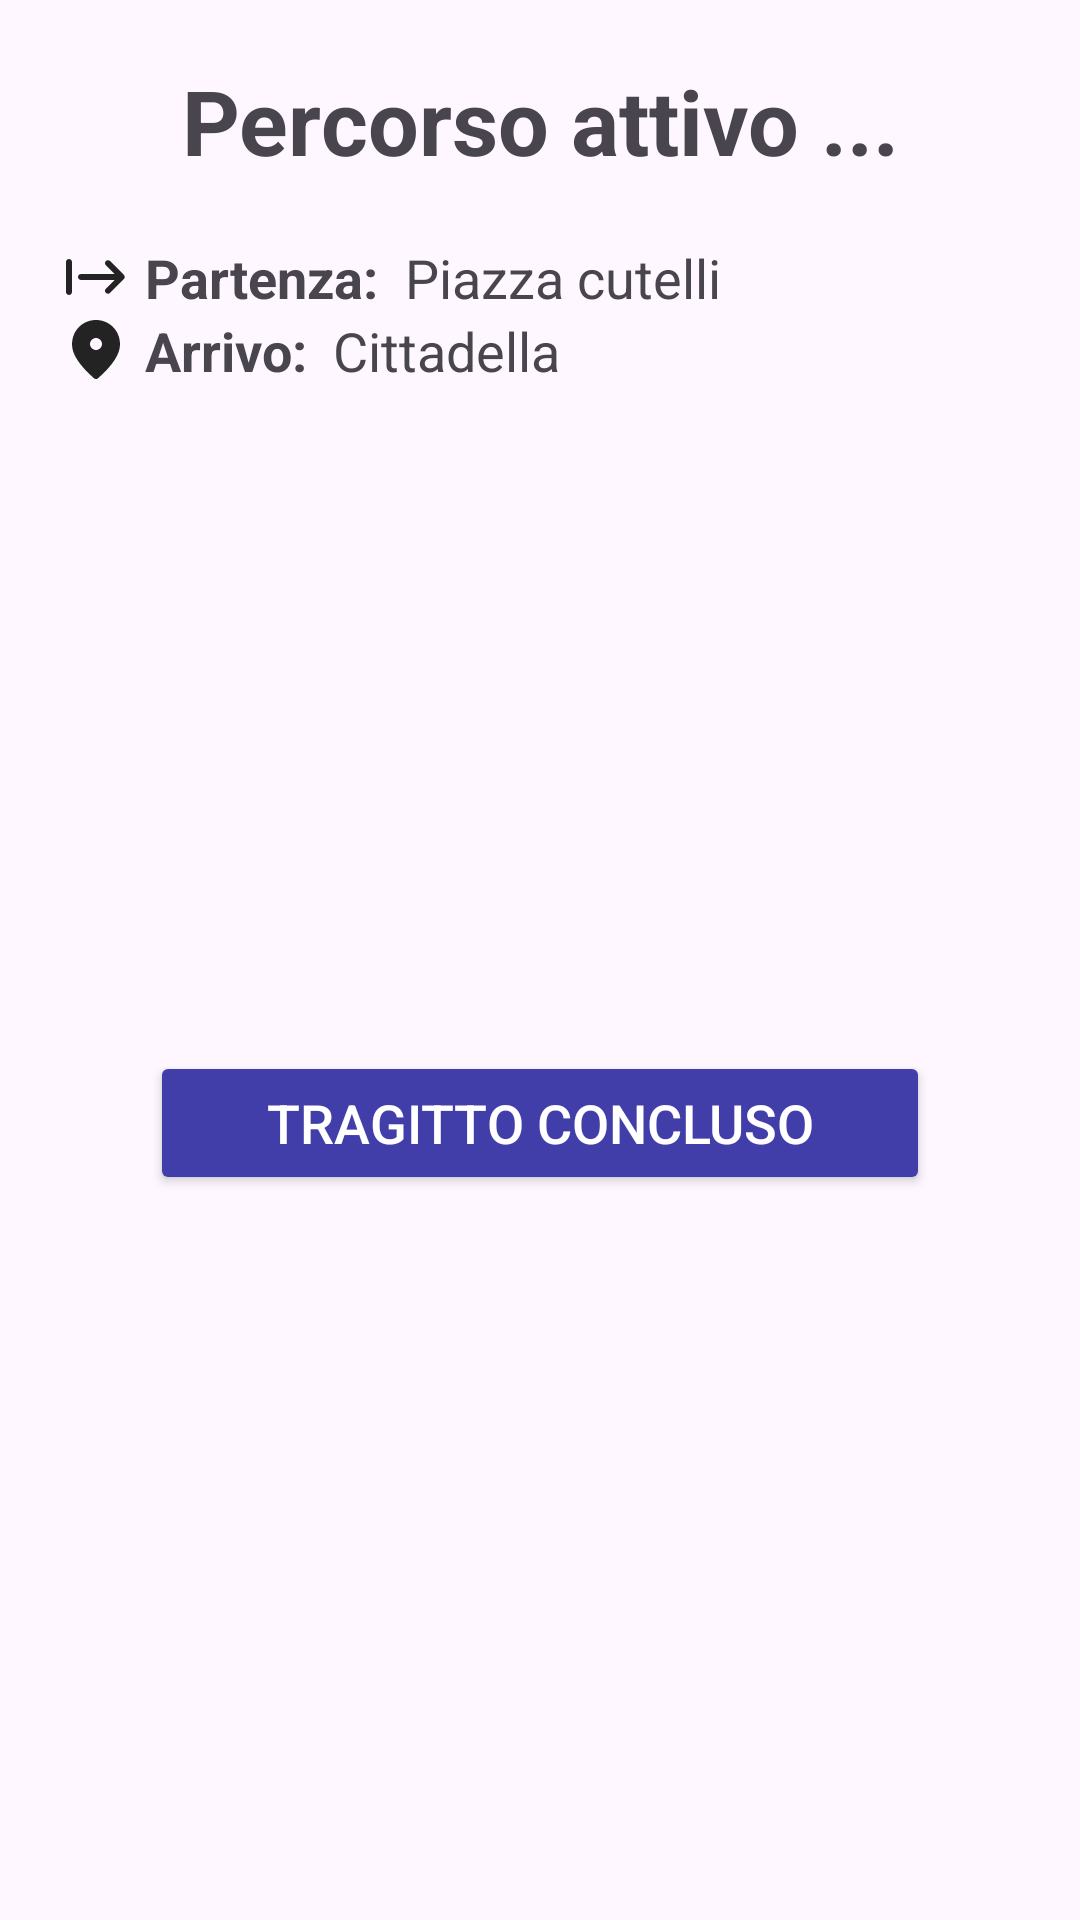

Where to tap for icons on this 1080px x 1920px app screen, as (x,y):
destinazione: (96,349)
start: (95,277)
